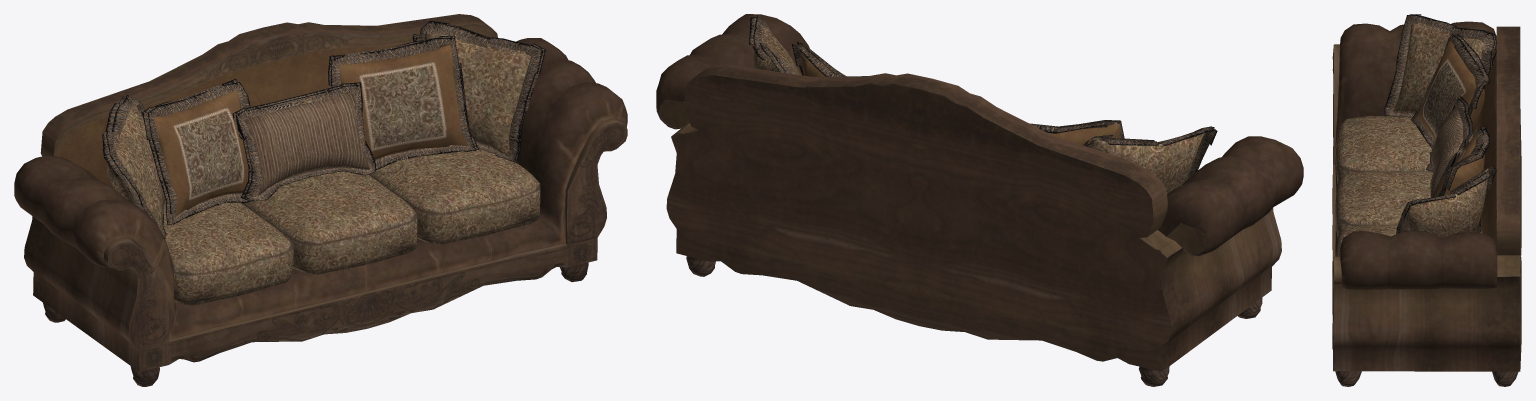
File: sofa_03.glb
3 renders of one model, left to right at view 1: azimuth 30°, elevation 25°; view 2: azimuth 150°, elevation 25°; view 3: azimuth 270°, elevation 25°, orthographic. The views are drawn at different scales.
Parts seen in each view (by area): view 1: sofa_03; view 2: sofa_03; view 3: sofa_03.
Part boxes in pixels (left/top/right/bottom): sofa_03: left=14, top=14, right=627, bottom=386; sofa_03: left=656, top=14, right=1303, bottom=386; sofa_03: left=1332, top=14, right=1521, bottom=386.
Bounding box in the file's own units: 2.73 × 1.12 × 0.9251.
2 materials, 2 textured.
